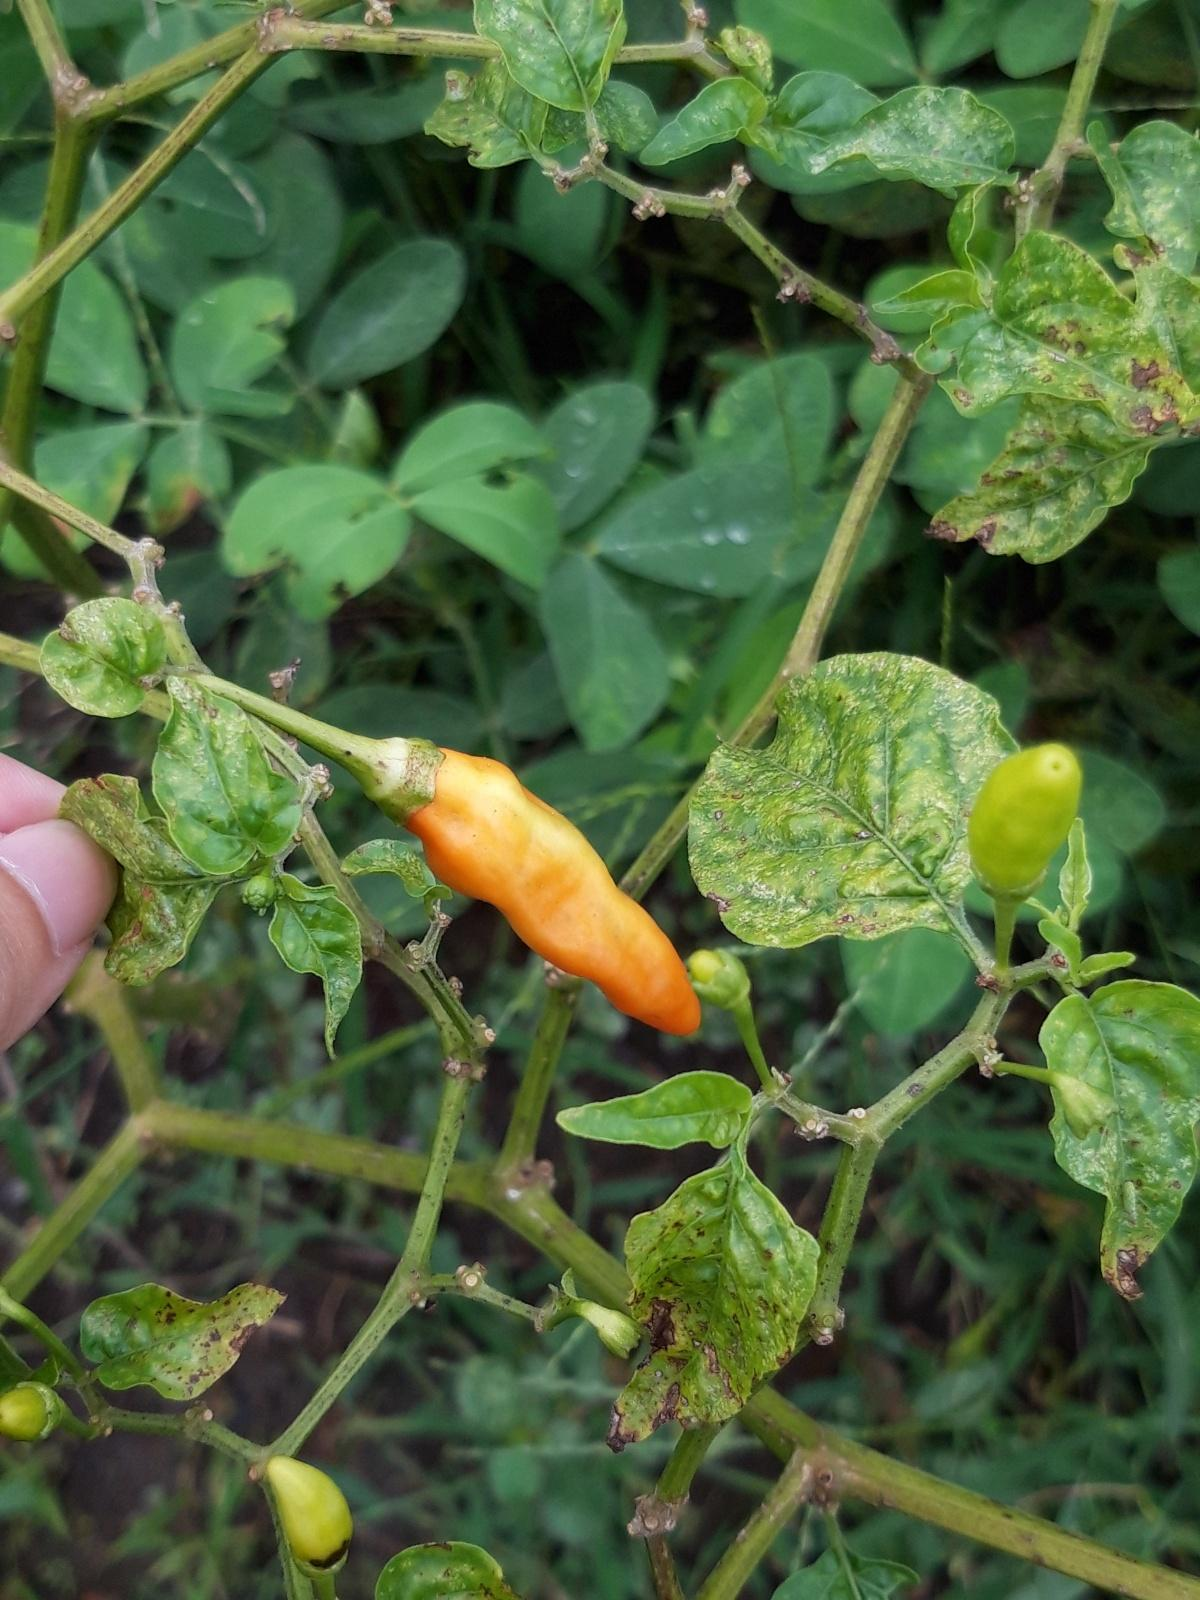cabai_normal: (410, 750, 702, 1033), (966, 742, 1079, 889), (268, 1453, 353, 1565)
